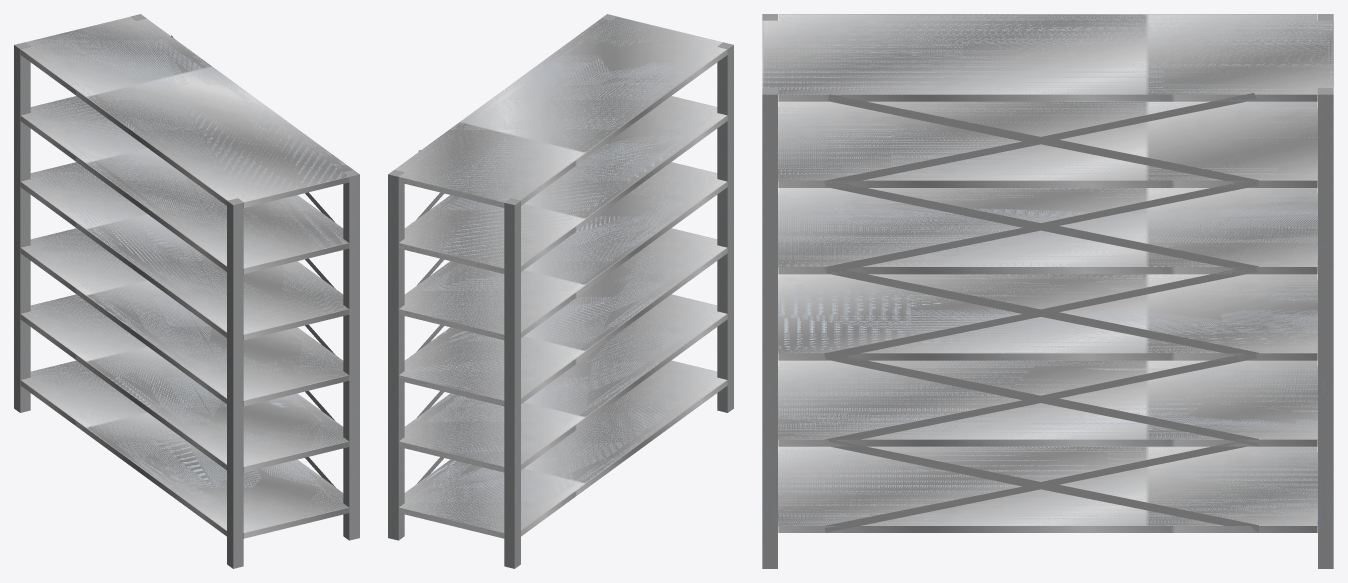
The model's file is SteelShelving.fbx.
3 renders of one model, left to right at view 1: azimuth 30°, elevation 25°; view 2: azimuth 150°, elevation 25°; view 3: azimuth 270°, elevation 25°, orthographic. The views are drawn at different scales.
Parts seen in each view (by area): view 1: Shelf2, Shelf3, Shelf1, Shelf5, Shelf6, Shelf4, Side_Bar3, Side_Bar4, Side_Bar2; view 2: Shelf2, Shelf1, Shelf4, Shelf6, Shelf3, Shelf5, Side_Bar2, Side_Bar1, Side_Bar3; view 3: Shelf2, Shelf6, Shelf1, Shelf3, Shelf4, Shelf5, Side_Bar1, Side_Bar4, Back_Frame5, Back_Frame3, Back_Frame4, Back_Frame2 (+1 smaller).
Boxes of the visible parts, bbox=[...] form: Shelf2: bbox=[20, 16, 353, 207]; Shelf3: bbox=[20, 96, 349, 273]; Shelf1: bbox=[20, 360, 349, 538]; Shelf5: bbox=[20, 228, 349, 406]; Shelf6: bbox=[20, 294, 349, 472]; Shelf4: bbox=[20, 162, 349, 340]; Side_Bar3: bbox=[227, 198, 243, 568]; Side_Bar4: bbox=[343, 170, 359, 540]; Side_Bar2: bbox=[14, 42, 30, 412]; Shelf2: bbox=[394, 16, 727, 207]; Shelf1: bbox=[399, 360, 727, 538]; Shelf4: bbox=[399, 162, 727, 340]; Shelf6: bbox=[399, 294, 727, 472]; Shelf3: bbox=[399, 96, 727, 273]; Shelf5: bbox=[399, 228, 727, 406]; Side_Bar2: bbox=[504, 198, 520, 568]; Side_Bar1: bbox=[388, 170, 404, 540]; Side_Bar3: bbox=[717, 42, 733, 412]; Shelf2: bbox=[762, 14, 1333, 101]; Shelf6: bbox=[778, 360, 1317, 446]; Shelf1: bbox=[778, 446, 1317, 532]; Shelf3: bbox=[778, 101, 1317, 187]; Shelf4: bbox=[778, 188, 1317, 274]; Shelf5: bbox=[778, 274, 1317, 360]; Side_Bar1: bbox=[1318, 88, 1333, 568]; Side_Bar4: bbox=[762, 88, 777, 568]; Back_Frame5: bbox=[824, 93, 1258, 187]; Back_Frame3: bbox=[824, 265, 1258, 359]; Back_Frame4: bbox=[824, 179, 1258, 273]; Back_Frame2: bbox=[825, 351, 1258, 446].
Bounding box in the file's own units: 0.6107 × 1.68 × 1.83.
